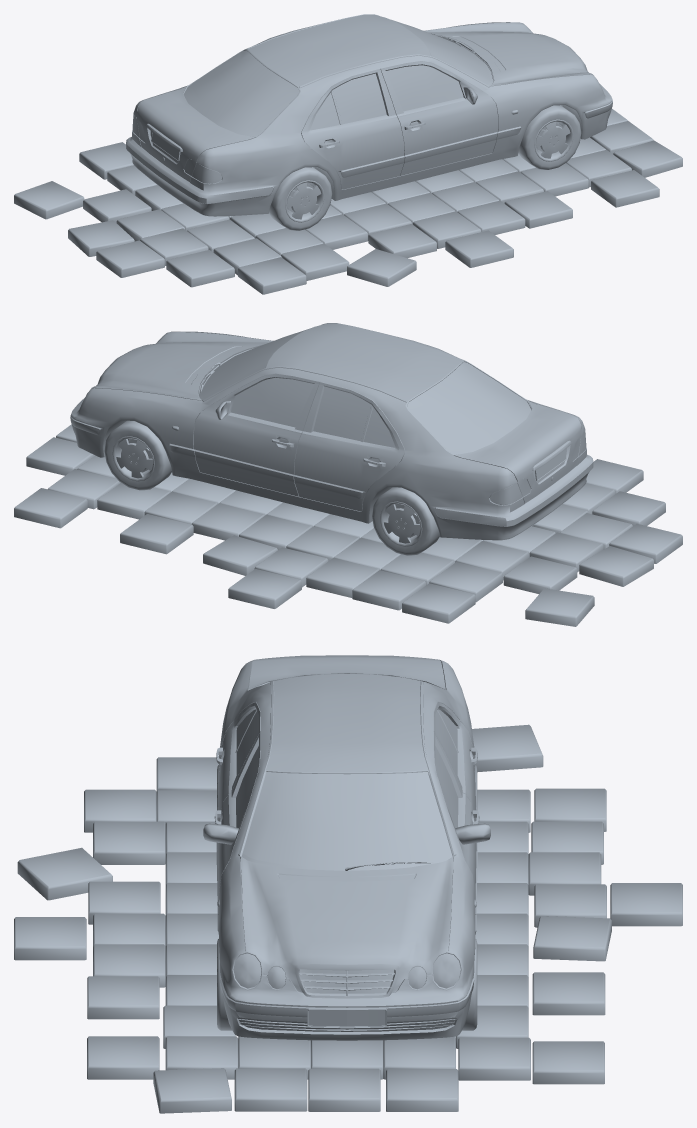
The model's file is sedan.glb.
3 views of the same model, one above another, from view 1: azimuth 30°, elevation 25°; view 2: azimuth 150°, elevation 25°; view 3: azimuth 270°, elevation 25° (orthographic). The views are drawn at different scales.
Visible parts, largest first — view 1: node_TILES_-996_7, node_SEDAN_17556_8, node_WINDOWS_-1052_20, node_matte_plastic_-1044_18, node_FR_tyre_-1108_5, node_RR_tyre_-1112_15, node_FR_WHEEL_-1074_1, node_RR_WHEEL_-1056_21, node_R_LAMPS_-1046_19; view 2: node_SEDAN_17556_8, node_TILES_-996_7, node_WINDOWS_-1052_20, node_matte_plastic_-1044_18, node_FL_tyre_-1088_14, node_RL_tyre_-1092_9, node_FL_WHEEL_-1070_13, node_RL_WHEEL_-1066_10, node_R_LAMPS_-1046_19; view 3: node_TILES_-996_7, node_SEDAN_17556_8, node_WINDOWS_-1052_20, node_matte_plastic_-1044_18, node_F_LAMPS_-1038_4.
Part boxes in pixels (<box>): node_TILES_-996_7: <box>14,108,682,294</box>; node_SEDAN_17556_8: <box>129,14,612,216</box>; node_WINDOWS_-1052_20: <box>184,20,490,137</box>; node_matte_plastic_-1044_18: <box>126,21,612,206</box>; node_FR_tyre_-1108_5: <box>518,105,581,169</box>; node_RR_tyre_-1112_15: <box>269,167,332,230</box>; node_FR_WHEEL_-1074_1: <box>534,119,573,161</box>; node_RR_WHEEL_-1056_21: <box>285,180,324,222</box>; node_R_LAMPS_-1046_19: <box>132,115,222,183</box>; node_SEDAN_17556_8: <box>70,323,589,540</box>; node_TILES_-996_7: <box>14,424,682,626</box>; node_WINDOWS_-1052_20: <box>201,329,531,454</box>; node_matte_plastic_-1044_18: <box>70,327,593,528</box>; node_FL_tyre_-1088_14: <box>104,420,171,490</box>; node_RL_tyre_-1092_9: <box>372,487,439,555</box>; node_FL_WHEEL_-1070_13: <box>112,436,154,481</box>; node_RL_WHEEL_-1066_10: <box>380,501,422,546</box>; node_R_LAMPS_-1046_19: <box>490,432,586,504</box>; node_TILES_-996_7: <box>14,724,682,1113</box>; node_SEDAN_17556_8: <box>217,655,476,1040</box>; node_WINDOWS_-1052_20: <box>236,675,458,867</box>; node_matte_plastic_-1044_18: <box>203,660,490,1031</box>; node_F_LAMPS_-1038_4: <box>233,953,460,989</box>.
Bounding box in the file's own units: 6.14 × 1.55 × 4.61.
